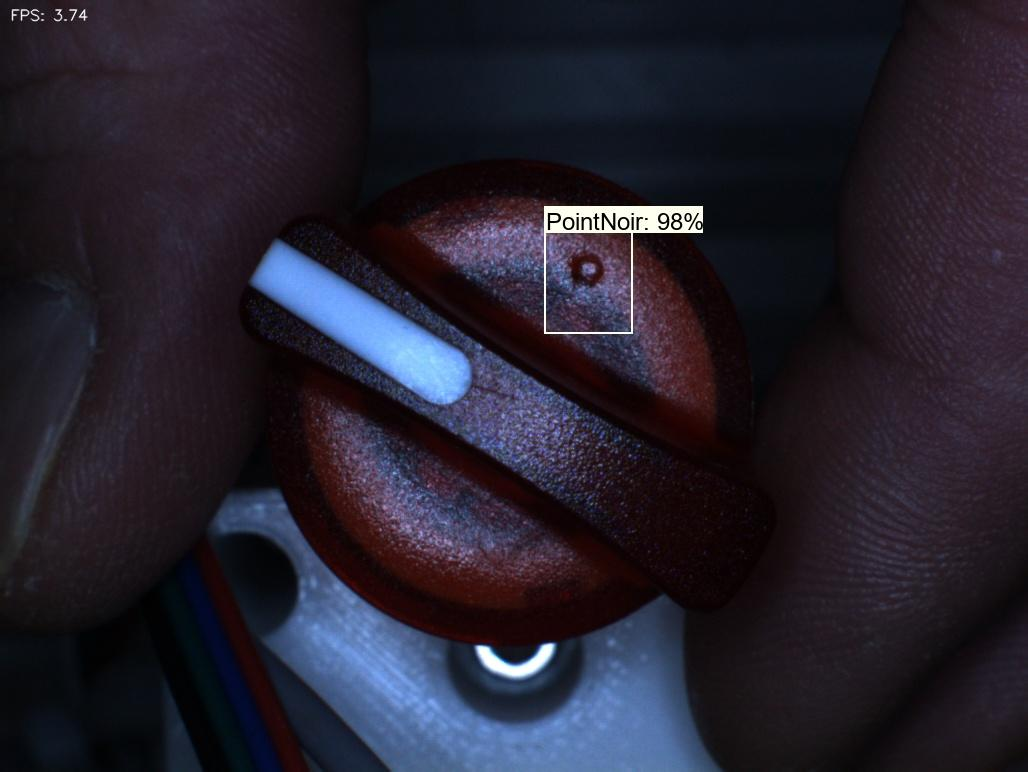Choc: (541, 233, 638, 321)
